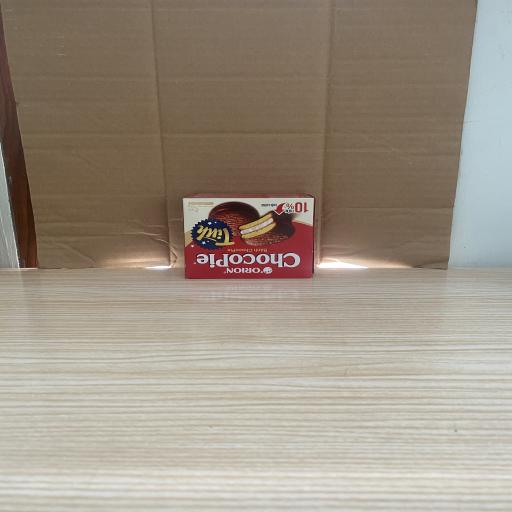chocopie: (182, 192, 315, 279)
